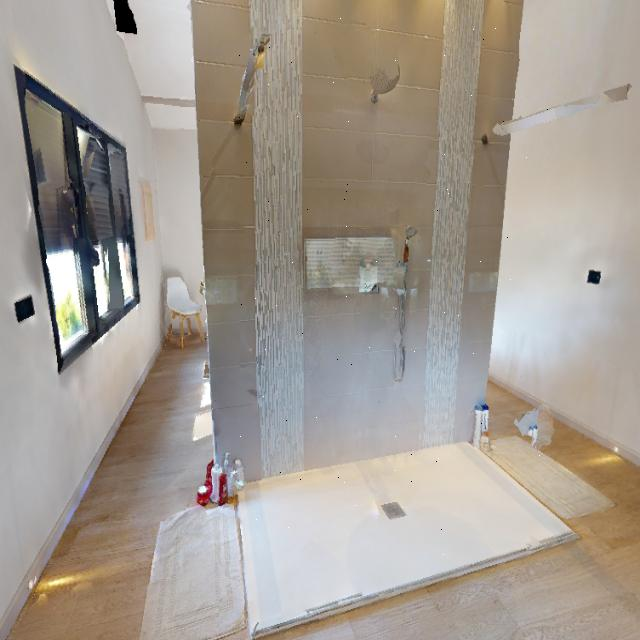shower: (218, 16, 556, 556)
